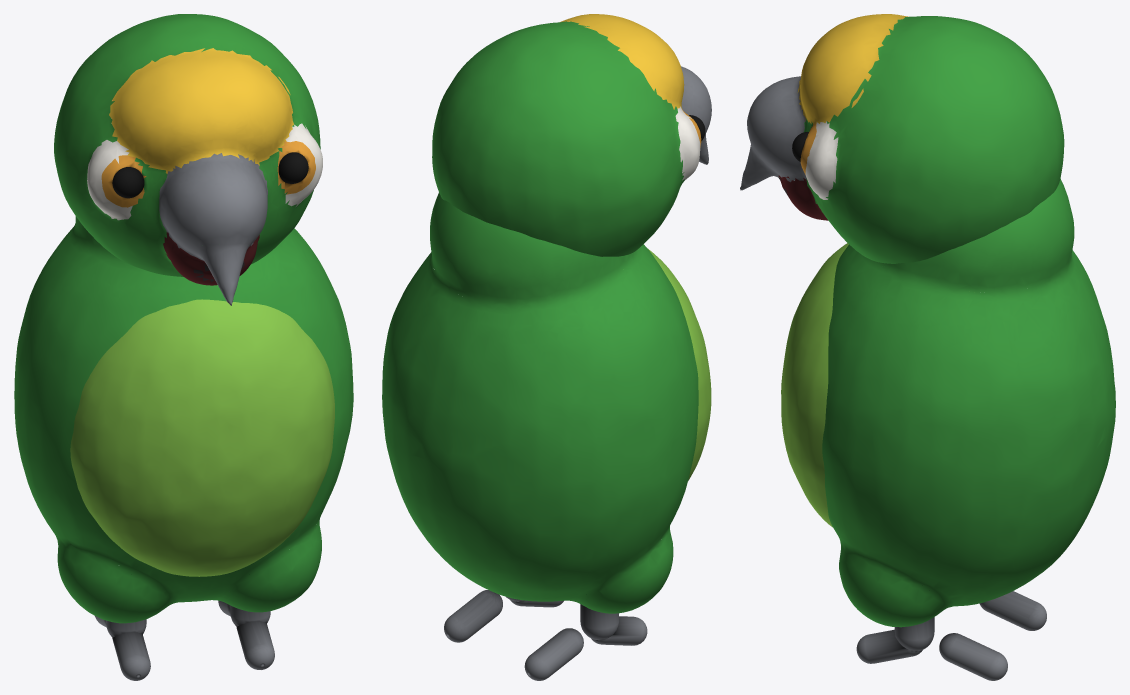
The model's file is halsa-familjen.glb.
The picture shows the model from 3 angles, left to right: view 1: azimuth 30°, elevation 25°; view 2: azimuth 150°, elevation 25°; view 3: azimuth 270°, elevation 25°; orthographic projection. The views are drawn at different scales.
Visible parts, largest first — view 1: peito__r0, cabeca__r0, papagaio__r0, papagaio__r2, papagaio__r5, cabeca__r1, cabeca__r2, papagaio__r4; view 2: papagaio__r0, cabeca__r0, peito__r0, papagaio__r3, papagaio__r6, papagaio__r1, papagaio__r2; view 3: papagaio__r0, cabeca__r0, peito__r0, papagaio__r6, papagaio__r3, papagaio__r5, papagaio__r4.
Part boxes in pixels (x1,y1,x2,y2): peito__r0: [70, 299, 334, 576]; cabeca__r0: [54, 14, 322, 305]; papagaio__r0: [14, 216, 353, 623]; papagaio__r2: [112, 632, 150, 680]; papagaio__r5: [236, 621, 274, 669]; cabeca__r1: [112, 167, 144, 198]; cabeca__r2: [278, 152, 308, 183]; papagaio__r4: [230, 605, 270, 626]; papagaio__r0: [382, 192, 698, 613]; cabeca__r0: [432, 14, 711, 256]; peito__r0: [647, 248, 711, 480]; papagaio__r3: [524, 628, 583, 680]; papagaio__r6: [444, 590, 502, 642]; papagaio__r1: [580, 604, 618, 640]; papagaio__r2: [591, 616, 647, 645]; papagaio__r0: [822, 178, 1115, 627]; cabeca__r0: [740, 14, 1064, 263]; peito__r0: [781, 243, 848, 527]; papagaio__r6: [939, 633, 1007, 680]; papagaio__r3: [979, 591, 1046, 630]; papagaio__r5: [856, 629, 922, 663]; papagaio__r4: [894, 617, 934, 651].
Size of the model in its own units: 0.5343 by 1.09 by 0.6049.
